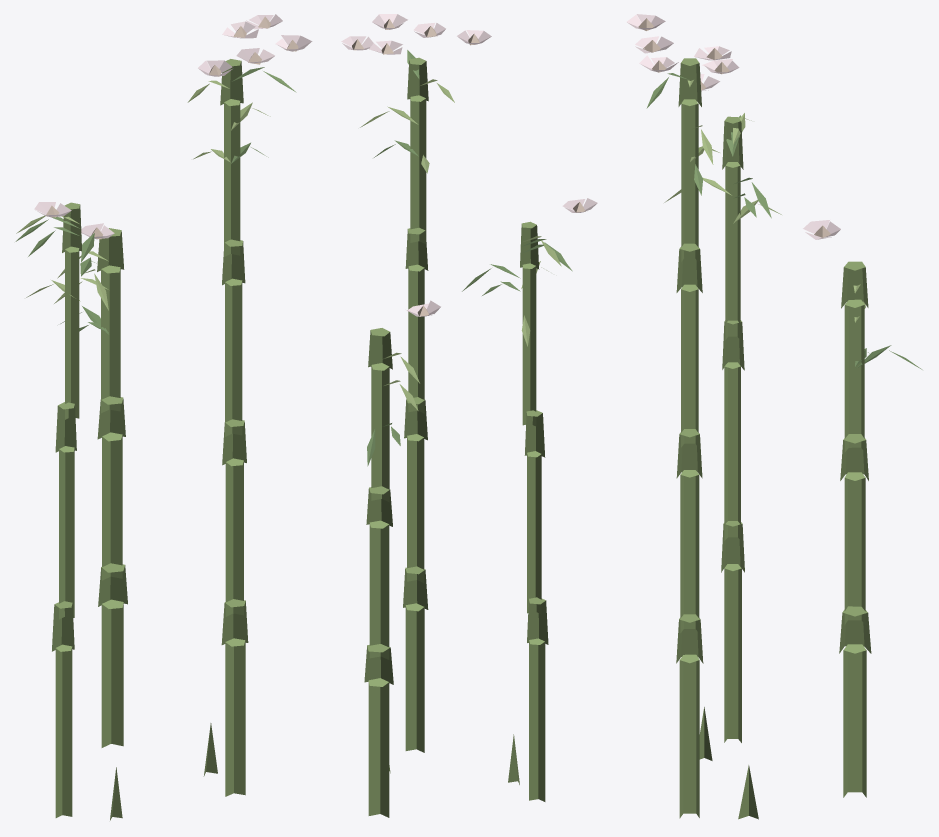
File: shu.maozhu@flowering__bloom.glb
3 renders of one model, left to right at view 1: azimuth 30°, elevation 25°; view 2: azimuth 150°, elevation 25°; view 3: azimuth 270°, elevation 25°, orthographic. The views are drawn at different scales.
Visible parts, largest first — view 1: shu.maozhu@flowering__bloom; view 2: shu.maozhu@flowering__bloom; view 3: shu.maozhu@flowering__bloom.
Boxes of the visible parts, left/top/right/bottom form: shu.maozhu@flowering__bloom: left=15, top=14, right=312, bottom=820; shu.maozhu@flowering__bloom: left=341, top=14, right=597, bottom=817; shu.maozhu@flowering__bloom: left=626, top=14, right=922, bottom=819.
Bounding box in the file's own units: 3.27 × 9.36 × 3.25.
